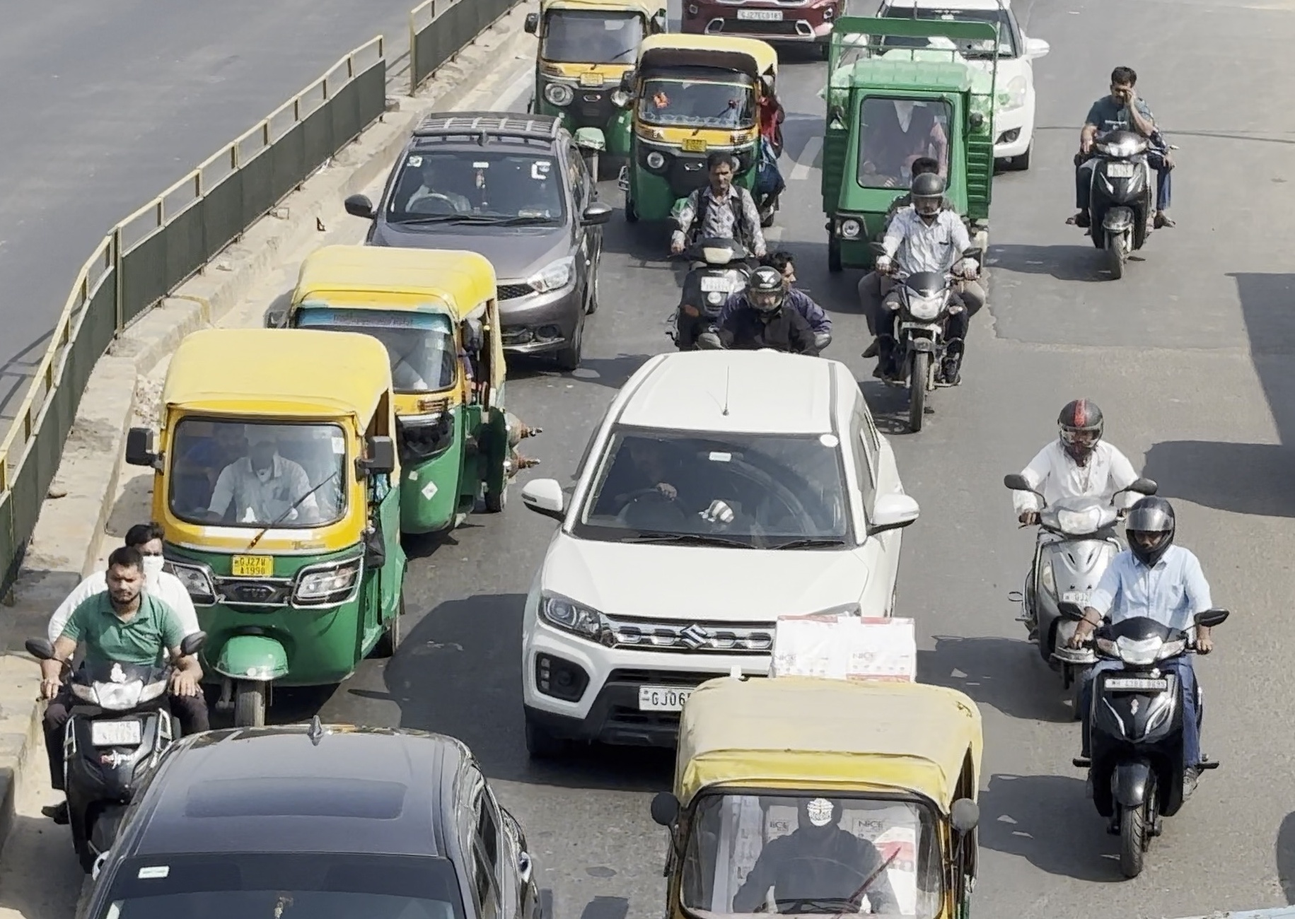BikeWithRider: (18, 499, 250, 873), (1056, 499, 1242, 893), (990, 377, 1166, 705), (842, 143, 995, 425), (658, 146, 792, 404), (1066, 59, 1180, 324), (710, 260, 822, 412)
Helmet: (1115, 491, 1179, 558), (1046, 392, 1104, 463), (743, 267, 787, 320), (910, 173, 953, 216)
NoHelmet: (97, 545, 145, 616), (122, 522, 178, 573), (760, 250, 803, 295), (702, 146, 738, 194), (908, 153, 947, 194), (1105, 69, 1135, 100)
